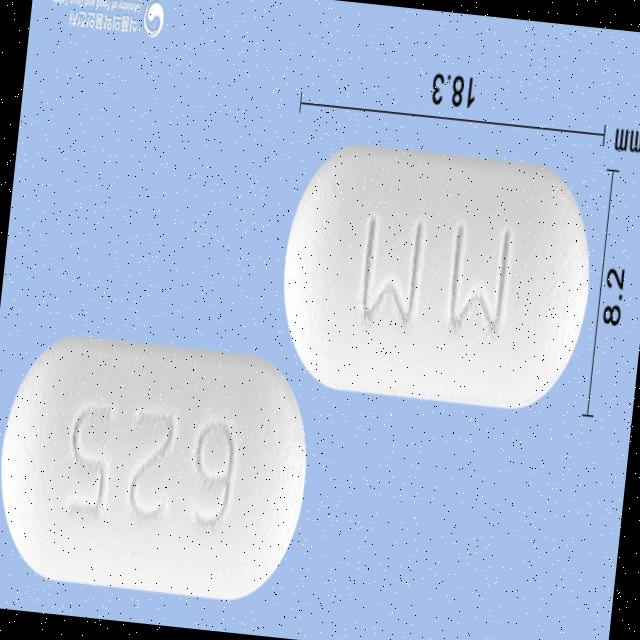Myungmoon Amoclan Tab: (270, 138, 600, 417), (0, 334, 315, 608)
